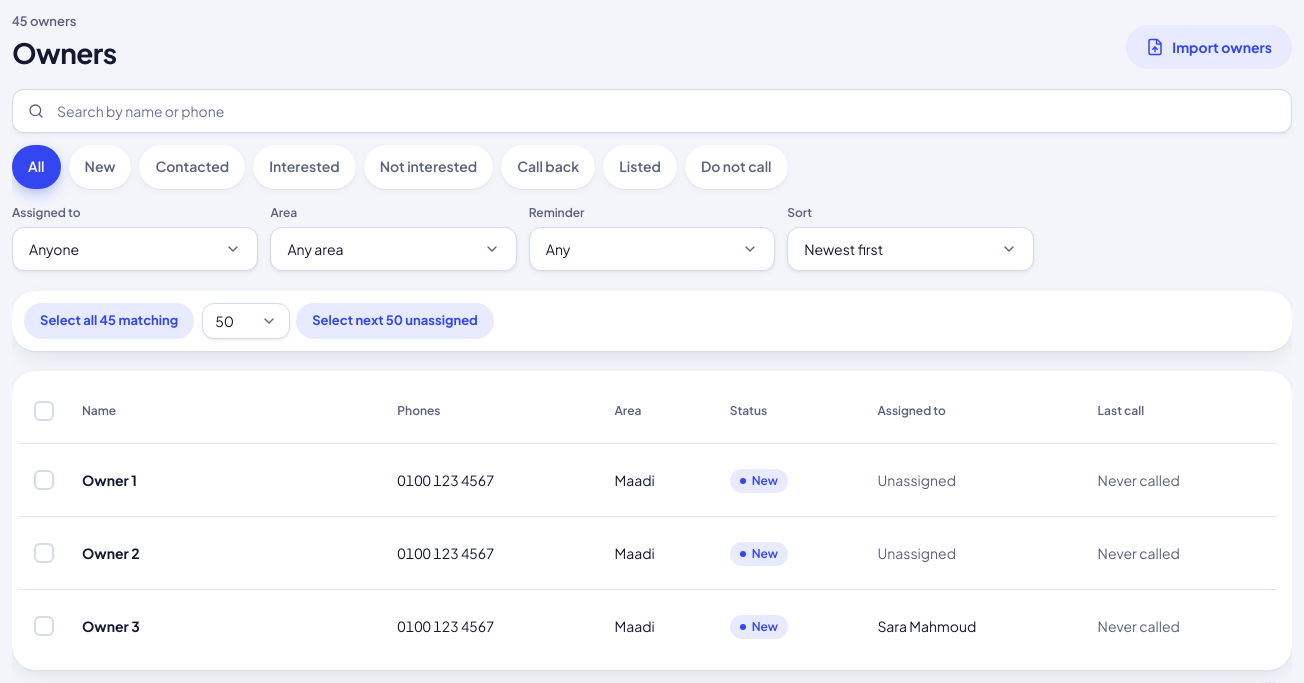
Admin owners table › locks the bulk buttons while the ids load
What coordinates should you click on to do the following:
click the button with test id "select-all-matching"
I would click on:
 (109, 321)
Its box is [24,303,194,339].
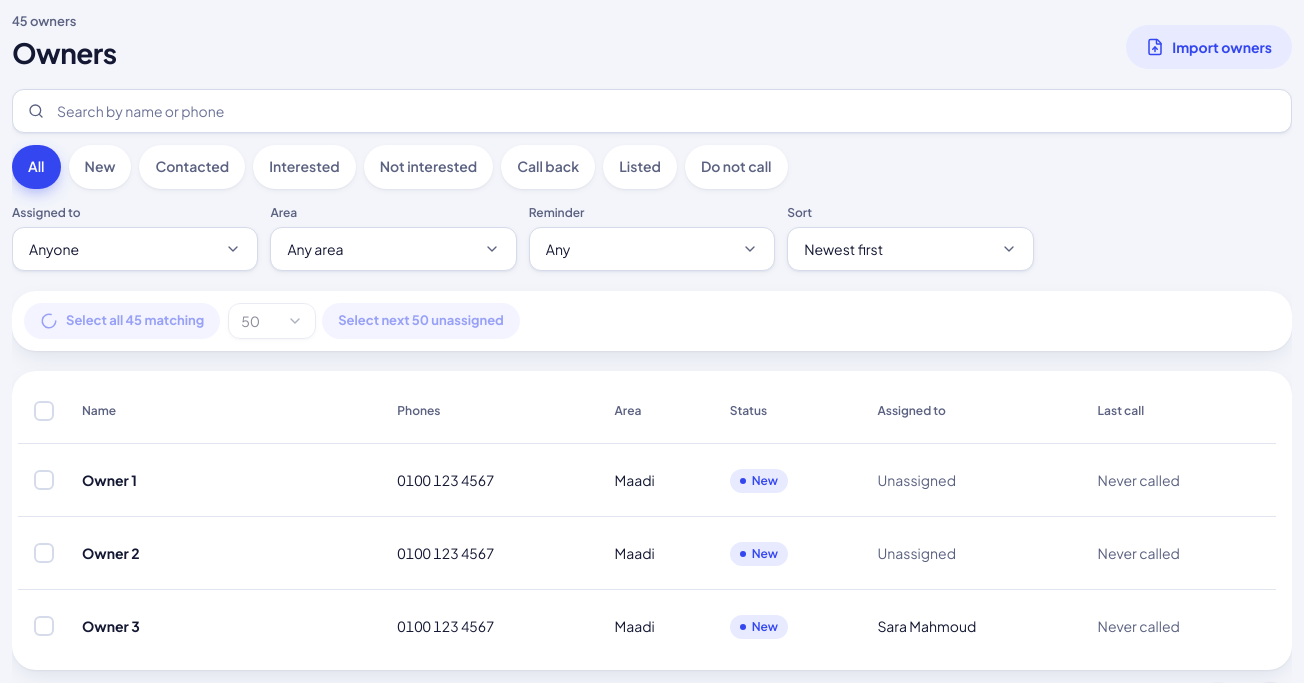
Check: the button with test id "select-all-matching" is disabled
Check: the button with test id "select-next-unassigned" is disabled, box [322,303,520,339]
What coordinates should you click on to do the following:
click the button with test id "select-all-matching"
I would click on:
 (122, 321)
Its box is [24,303,220,339].
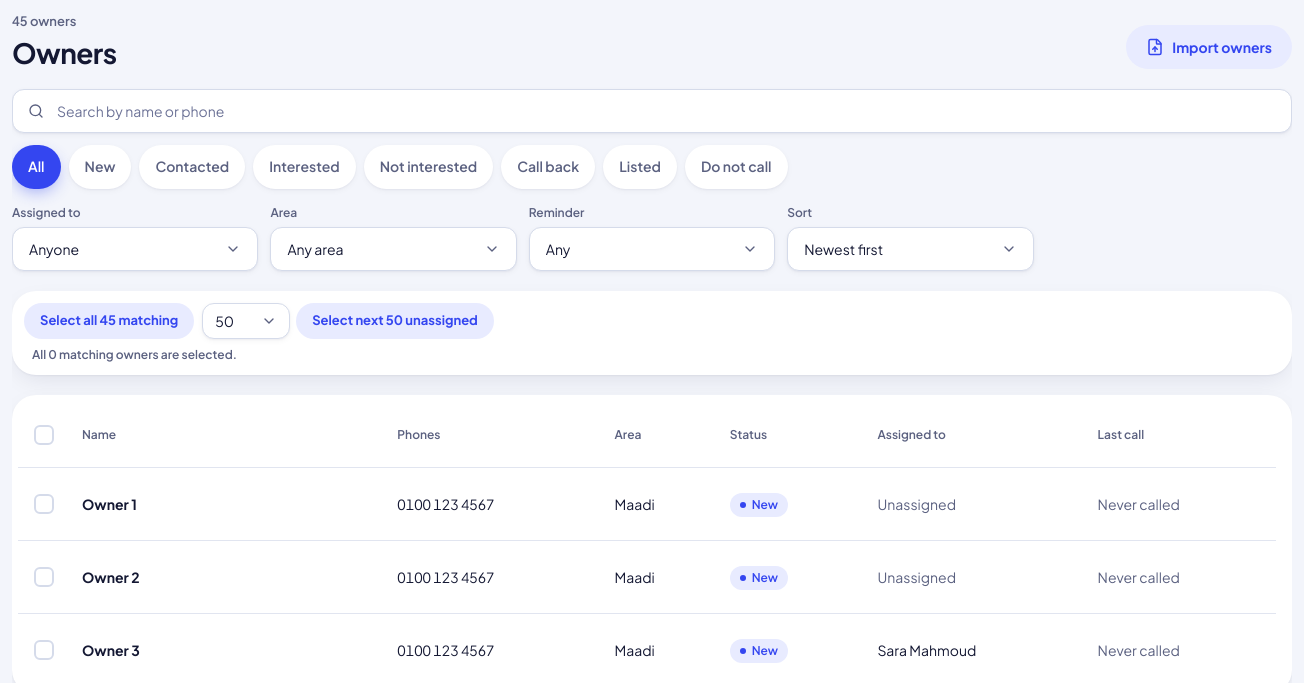
Check: the button with test id "select-all-matching" is enabled, box [24,303,194,339]
